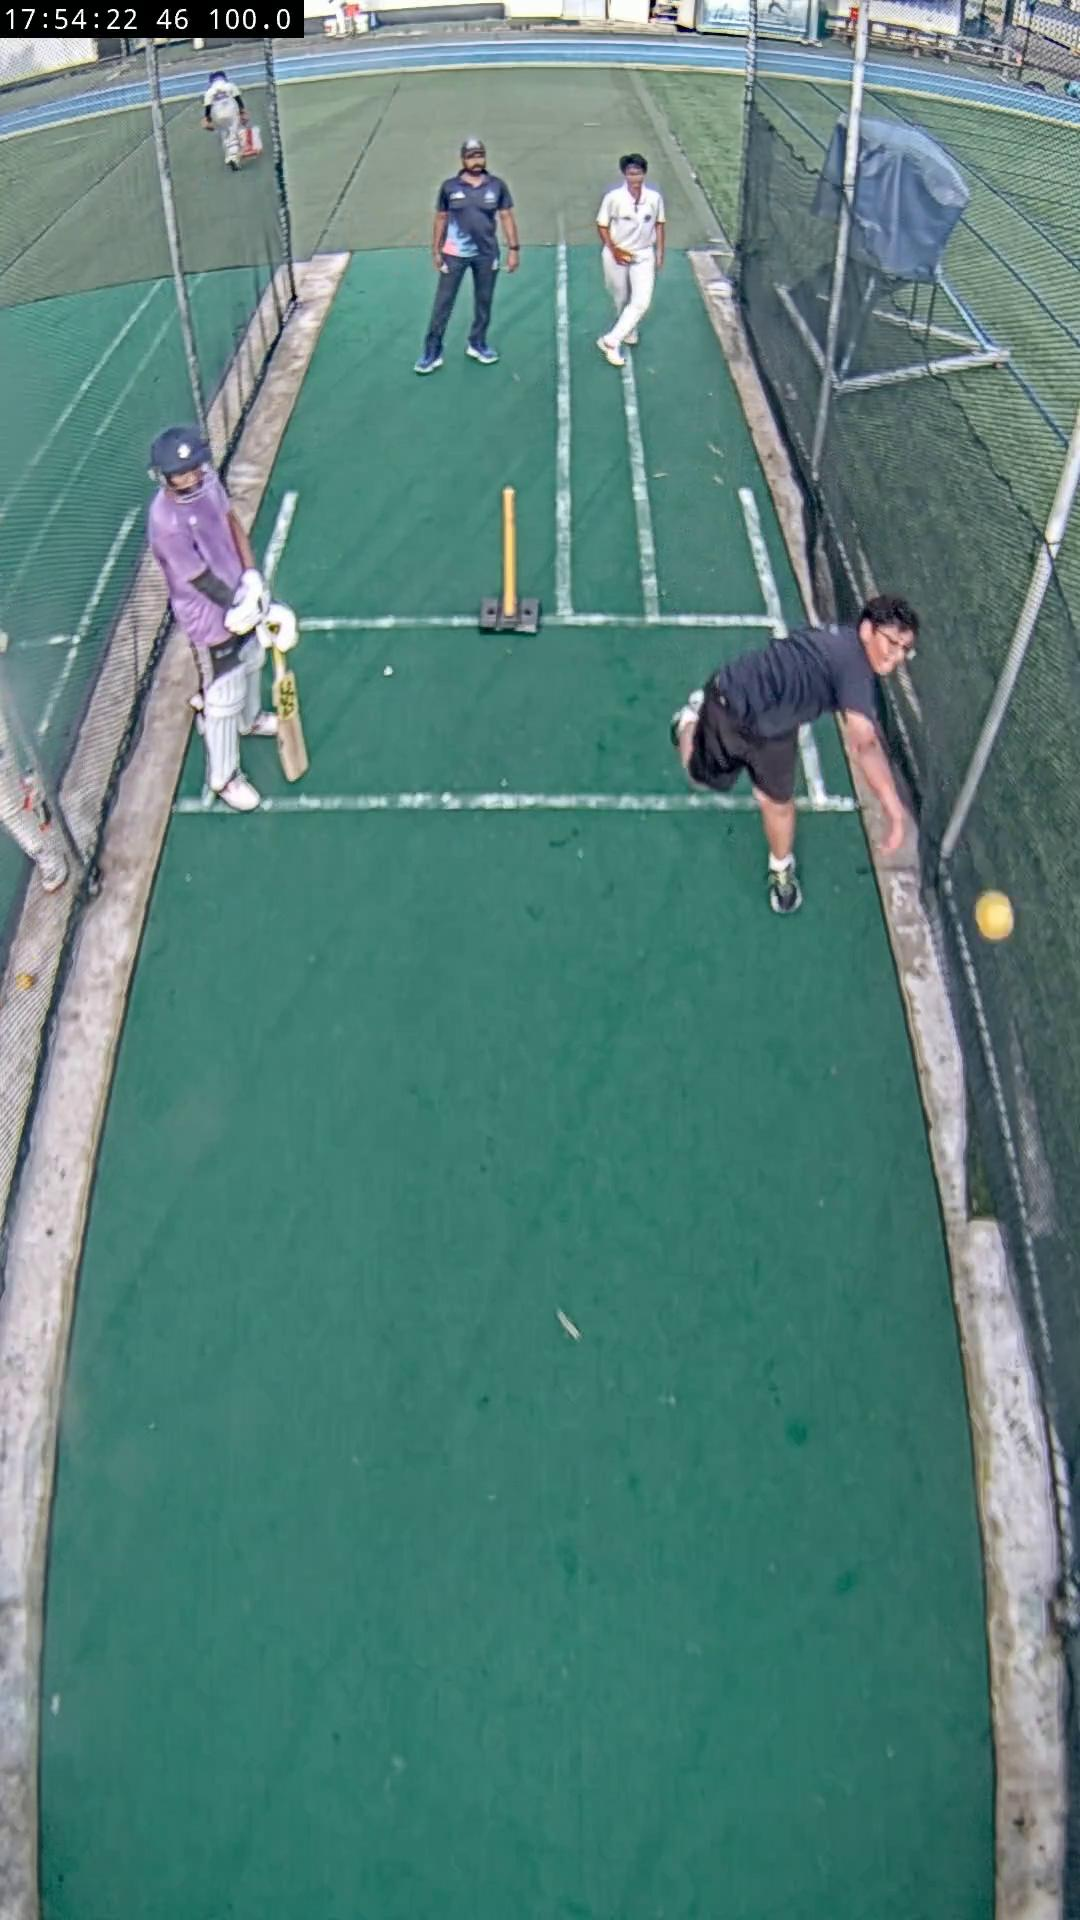ball: (975, 889, 1013, 942)
stumps: (480, 488, 541, 634)
